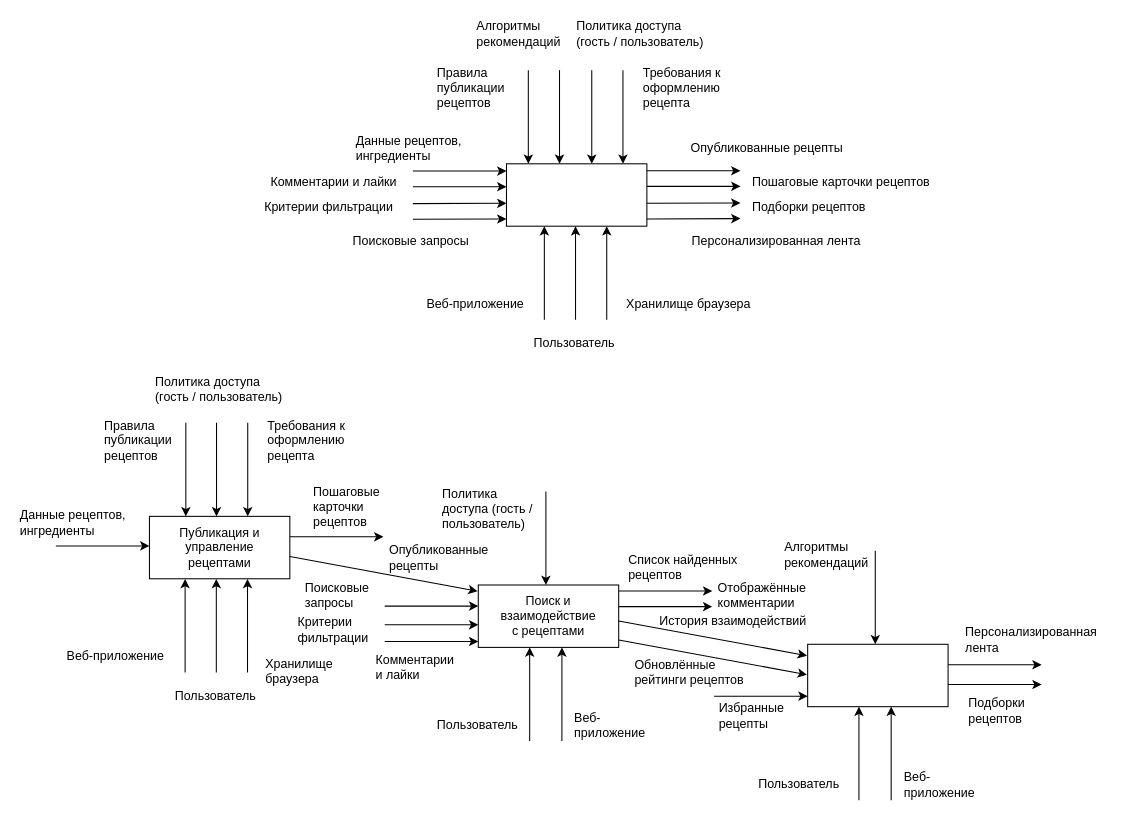
The diagram is 1128 pixels wide and 827 high, and some of its shapes have lost their labels. Here are the shapes that lost their labels. From the top down, the centre of each, then its label:
At pixel 576 194: "Обмен рецептами и кулинарными идеями".
At pixel 877 675: "Формирование персонализированного контента".
